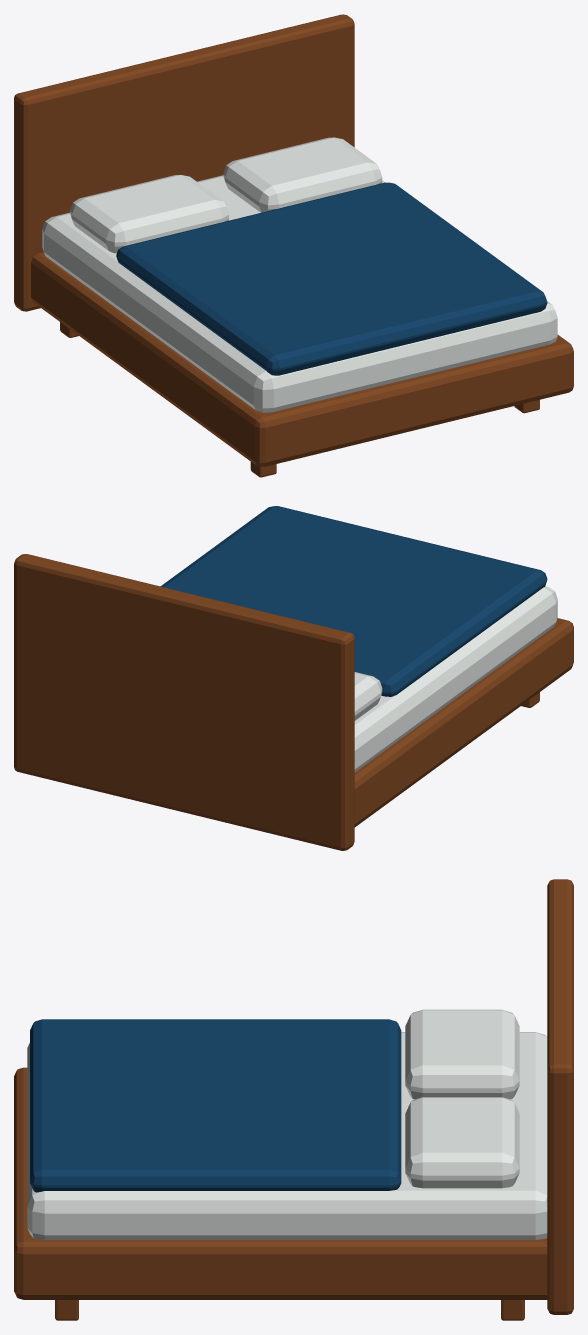
File: edited.glb
3 renders of one model, top to bottom at view 1: azimuth 30°, elevation 25°; view 2: azimuth 150°, elevation 25°; view 3: azimuth 270°, elevation 25°, orthographic. The views are drawn at different scales.
Parts seen in each view (by area): view 1: DUVET, HEADBOARD, FRAME, MATTRESS, PILLOW, PILLOW.001; view 2: HEADBOARD, DUVET, FRAME, MATTRESS, PILLOW; view 3: DUVET, FRAME, MATTRESS, HEADBOARD, PILLOW.001, PILLOW.
Part boxes in pixels (x1=…): DUVET: x1=116, y1=182, x2=547, y2=375; HEADBOARD: x1=14, y1=14, x2=354, y2=311; FRAME: x1=31, y1=252, x2=573, y2=466; MATTRESS: x1=42, y1=175, x2=557, y2=412; PILLOW: x1=70, y1=175, x2=228, y2=253; PILLOW.001: x1=223, y1=137, x2=382, y2=212; HEADBOARD: x1=14, y1=554, x2=354, y2=850; DUVET: x1=160, y1=506, x2=547, y2=696; FRAME: x1=354, y1=618, x2=573, y2=827; MATTRESS: x1=354, y1=586, x2=557, y2=772; PILLOW: x1=354, y1=672, x2=382, y2=720; DUVET: x1=30, y1=1019, x2=401, y2=1192; FRAME: x1=14, y1=1067, x2=547, y2=1299; MATTRESS: x1=27, y1=1032, x2=547, y2=1239; HEADBOARD: x1=547, y1=879, x2=573, y2=1314; PILLOW.001: x1=405, y1=1097, x2=519, y2=1188; PILLOW: x1=405, y1=1009, x2=519, y2=1099.
Size of the model in its own units: 1.7 by 1.12 by 2.11.
